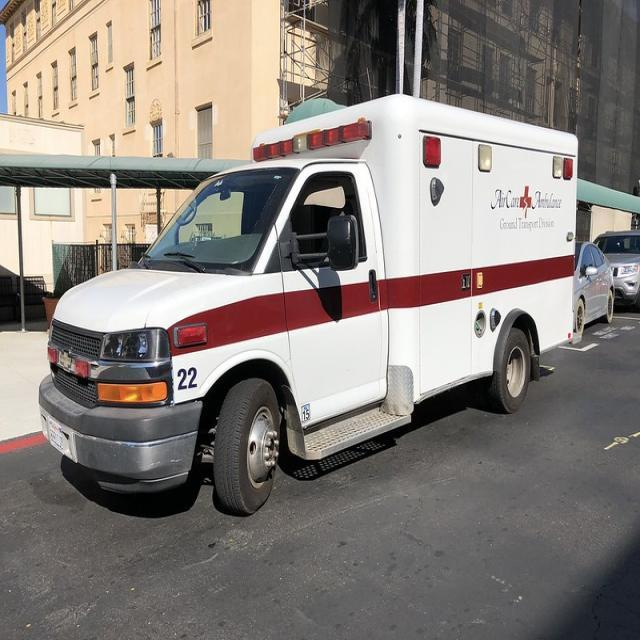emergency: (35, 90, 412, 520)
